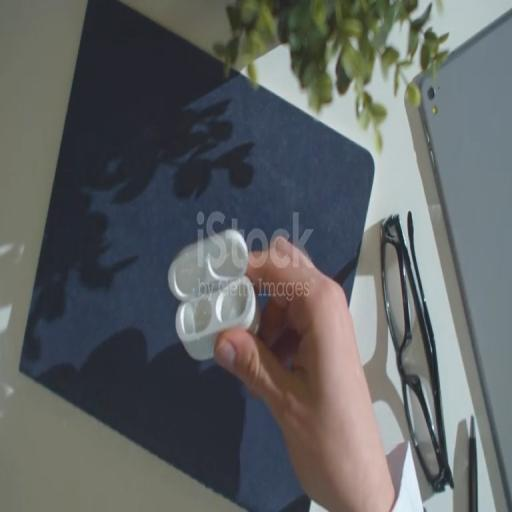earphone: (163, 236, 266, 379)
